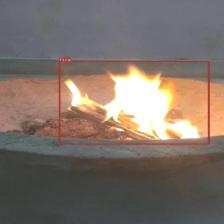fire: (58, 61, 209, 144)
